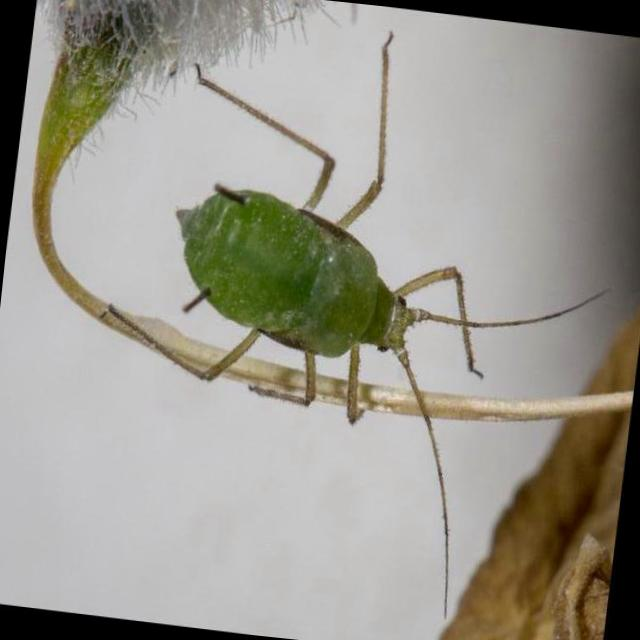aphid: (96, 39, 564, 530)
